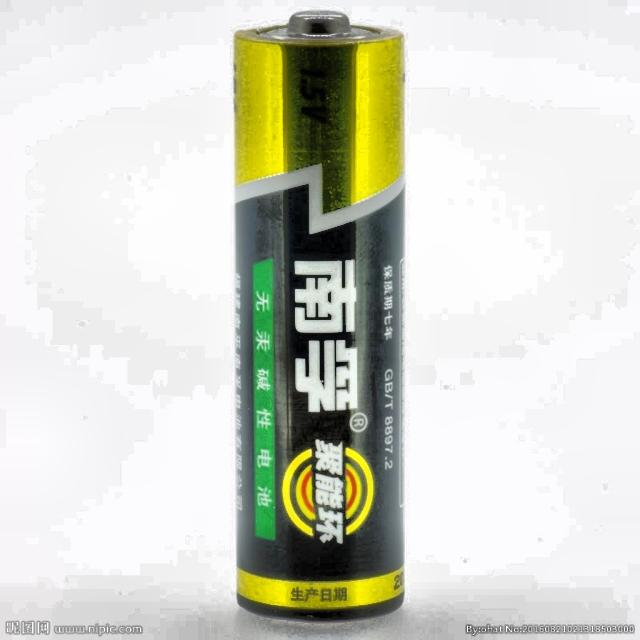Non-Valuable Waste - Batteries: (235, 14, 404, 620)
